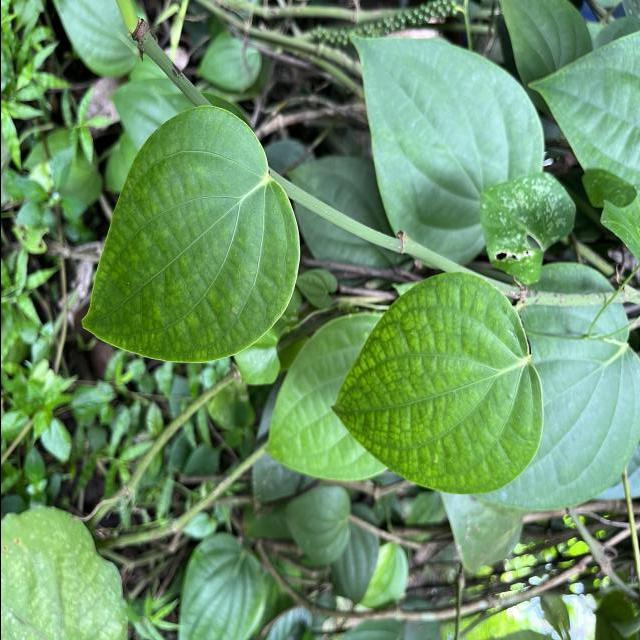Piper nigrum: (79, 104, 302, 366), (328, 270, 544, 497)
